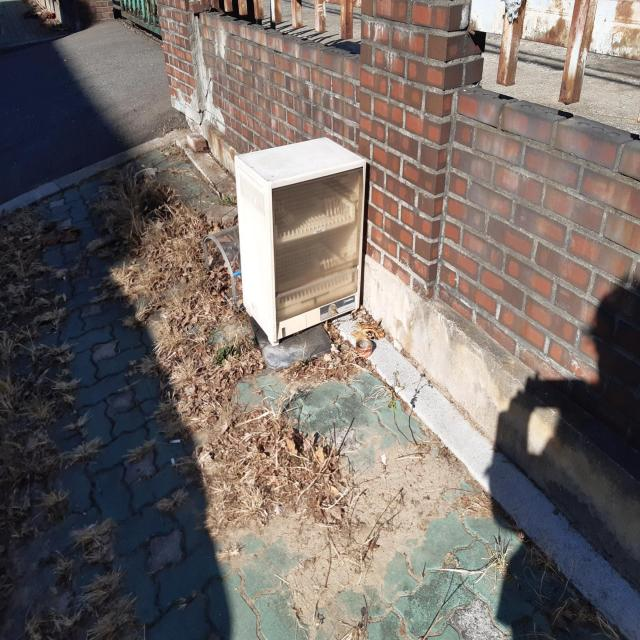refrigerator: (234, 136, 367, 348)
